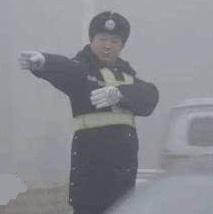person: (17, 10, 161, 214)
